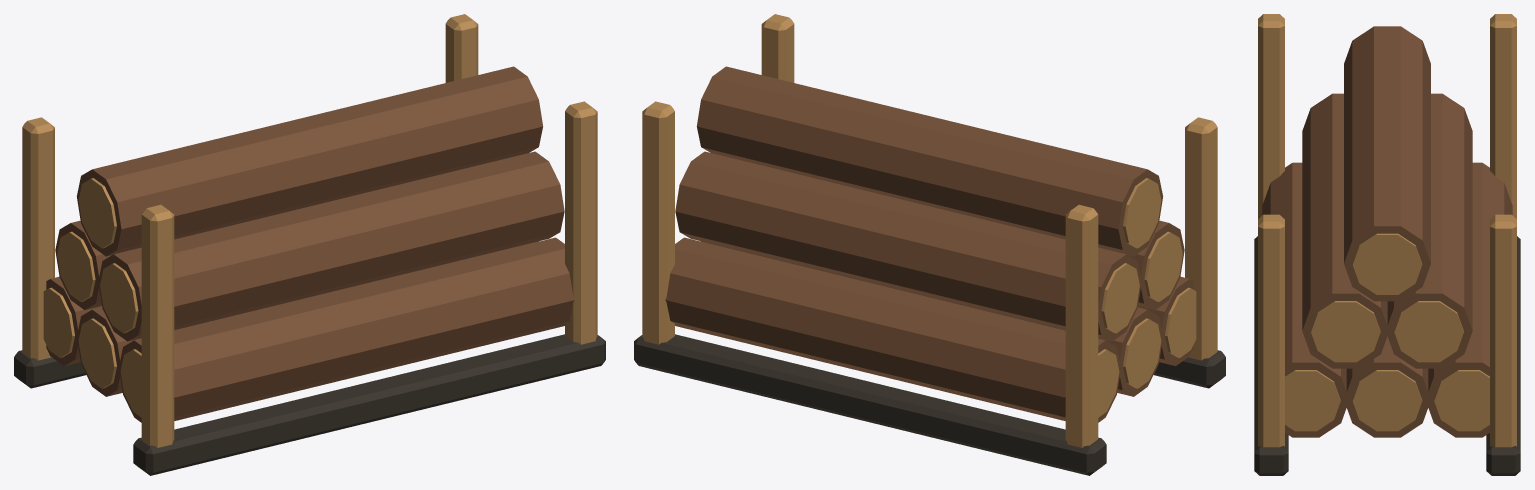
File: 06_Woodpile_Rack.glb
3 renders of one model, left to right at view 1: azimuth 30°, elevation 25°; view 2: azimuth 150°, elevation 25°; view 3: azimuth 270°, elevation 25°, orthographic. The views are drawn at different scales.
Parts seen in each view (by area): view 1: 06_Woodpile_Rack__Body; view 2: 06_Woodpile_Rack__Body; view 3: 06_Woodpile_Rack__Body.
Part boxes in pixels (x1,y1,x2,y2): 06_Woodpile_Rack__Body: [14, 14, 605, 475]; 06_Woodpile_Rack__Body: [634, 14, 1225, 475]; 06_Woodpile_Rack__Body: [1254, 14, 1520, 475].
Bounding box in the file's own units: 2.85 × 1.53 × 1.47.
Materials: 1 (1 with a texture image).
